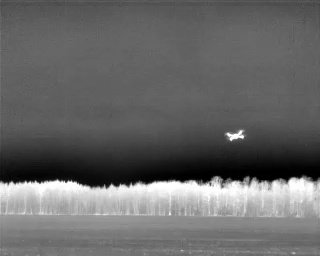DRONE: (221, 124, 250, 146)
